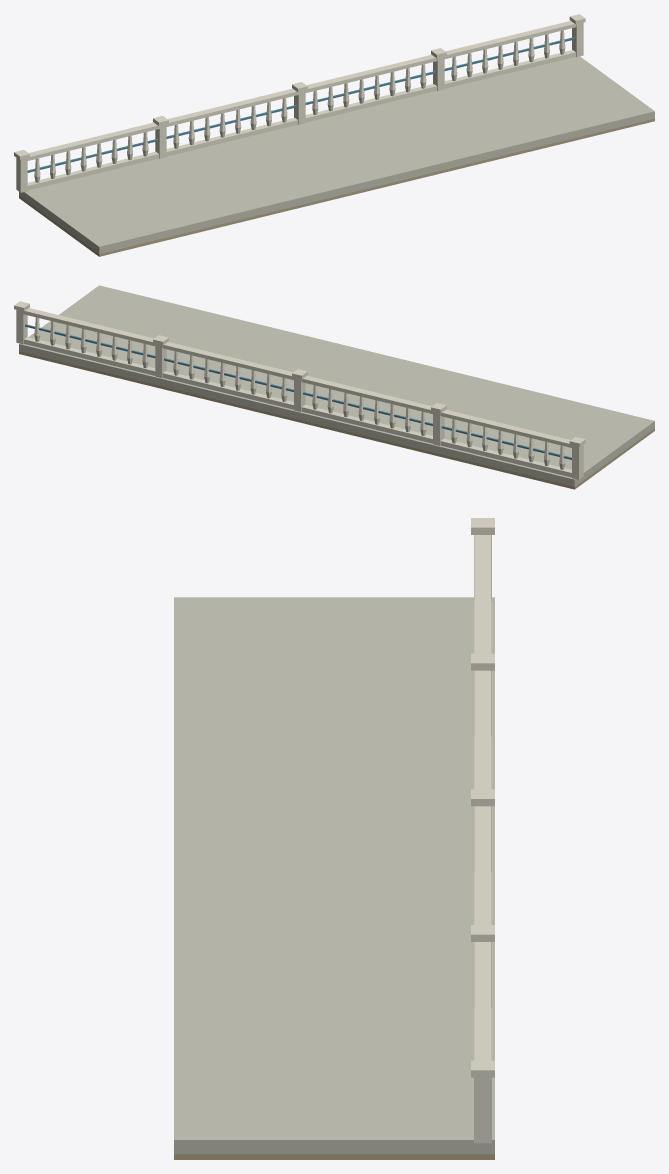
Rendered from KOL_HBR_RF_04.fbx.
The picture shows the model from 3 angles, top to bottom: view 1: azimuth 30°, elevation 25°; view 2: azimuth 150°, elevation 25°; view 3: azimuth 270°, elevation 25°; orthographic projection. The views are drawn at different scales.
Parts seen in each view (by area): view 1: KOL_HBR_RF_04__WalkSlab__Concrete, KOL_HBR_RF_04__Balustrade16__White, KOL_HBR_RF_04__Balustrade16__White.001, KOL_HBR_RF_04__Balustrade16__White.003, KOL_HBR_RF_04__Balustrade16__White.002, KOL_HBR_RF_04__WalkSlab__Stone, KOL_HBR_RF_04__RailTerminal__White; view 2: KOL_HBR_RF_04__WalkSlab__Concrete, KOL_HBR_RF_04__Balustrade16__White, KOL_HBR_RF_04__Balustrade16__White.002, KOL_HBR_RF_04__Balustrade16__White.001, KOL_HBR_RF_04__Balustrade16__White.003, KOL_HBR_RF_04__WalkSlab__Stone, KOL_HBR_RF_04__RailTerminal__White, KOL_HBR_RF_04__Balustrade16__Blue.003, KOL_HBR_RF_04__Balustrade16__Blue, KOL_HBR_RF_04__Balustrade16__Blue.001, KOL_HBR_RF_04__Balustrade16__Blue.002; view 3: KOL_HBR_RF_04__WalkSlab__Concrete, KOL_HBR_RF_04__Balustrade16__White.001, KOL_HBR_RF_04__Balustrade16__White.002, KOL_HBR_RF_04__Balustrade16__White, KOL_HBR_RF_04__Balustrade16__White.003, KOL_HBR_RF_04__WalkSlab__Stone, KOL_HBR_RF_04__RailTerminal__White.
Boxes of the visible parts, bbox=[...] form: KOL_HBR_RF_04__WalkSlab__Concrete: bbox=[19, 56, 654, 253]; KOL_HBR_RF_04__Balustrade16__White: bbox=[14, 122, 159, 192]; KOL_HBR_RF_04__Balustrade16__White.001: bbox=[153, 88, 298, 158]; KOL_HBR_RF_04__Balustrade16__White.003: bbox=[431, 21, 576, 90]; KOL_HBR_RF_04__Balustrade16__White.002: bbox=[292, 54, 437, 124]; KOL_HBR_RF_04__WalkSlab__Stone: bbox=[19, 118, 654, 256]; KOL_HBR_RF_04__RailTerminal__White: bbox=[569, 14, 585, 57]; KOL_HBR_RF_04__WalkSlab__Concrete: bbox=[19, 285, 654, 486]; KOL_HBR_RF_04__Balustrade16__White: bbox=[440, 409, 585, 479]; KOL_HBR_RF_04__Balustrade16__White.002: bbox=[162, 342, 307, 411]; KOL_HBR_RF_04__Balustrade16__White.001: bbox=[301, 375, 446, 445]; KOL_HBR_RF_04__Balustrade16__White.003: bbox=[23, 308, 168, 377]; KOL_HBR_RF_04__WalkSlab__Stone: bbox=[19, 351, 654, 489]; KOL_HBR_RF_04__RailTerminal__White: bbox=[14, 301, 29, 344]; KOL_HBR_RF_04__Balustrade16__Blue.003: bbox=[25, 324, 155, 358]; KOL_HBR_RF_04__Balustrade16__Blue: bbox=[441, 426, 571, 459]; KOL_HBR_RF_04__Balustrade16__Blue.001: bbox=[303, 392, 432, 425]; KOL_HBR_RF_04__Balustrade16__Blue.002: bbox=[164, 358, 293, 391]; KOL_HBR_RF_04__WalkSlab__Concrete: bbox=[174, 597, 494, 1154]; KOL_HBR_RF_04__Balustrade16__White.001: bbox=[471, 653, 494, 789]; KOL_HBR_RF_04__Balustrade16__White.002: bbox=[471, 789, 494, 924]; KOL_HBR_RF_04__Balustrade16__White: bbox=[471, 518, 494, 653]; KOL_HBR_RF_04__Balustrade16__White.003: bbox=[471, 925, 494, 1060]; KOL_HBR_RF_04__WalkSlab__Stone: bbox=[174, 1154, 494, 1159]; KOL_HBR_RF_04__RailTerminal__White: bbox=[471, 1060, 494, 1143].
Size of the model in its own units: 65.15 by 5.2 by 16.
